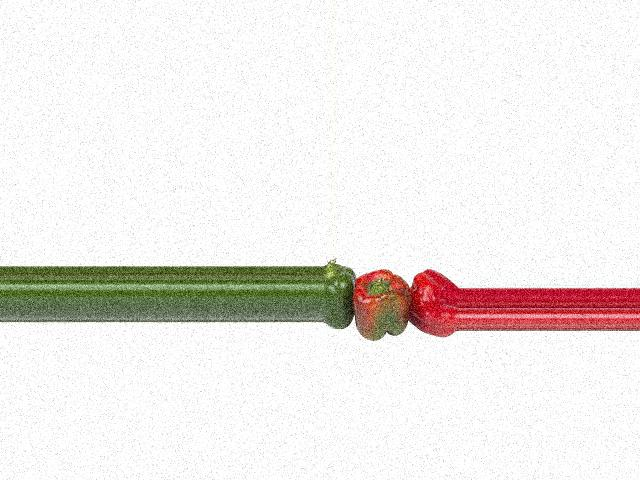bell_pepper: (407, 263, 458, 340)
